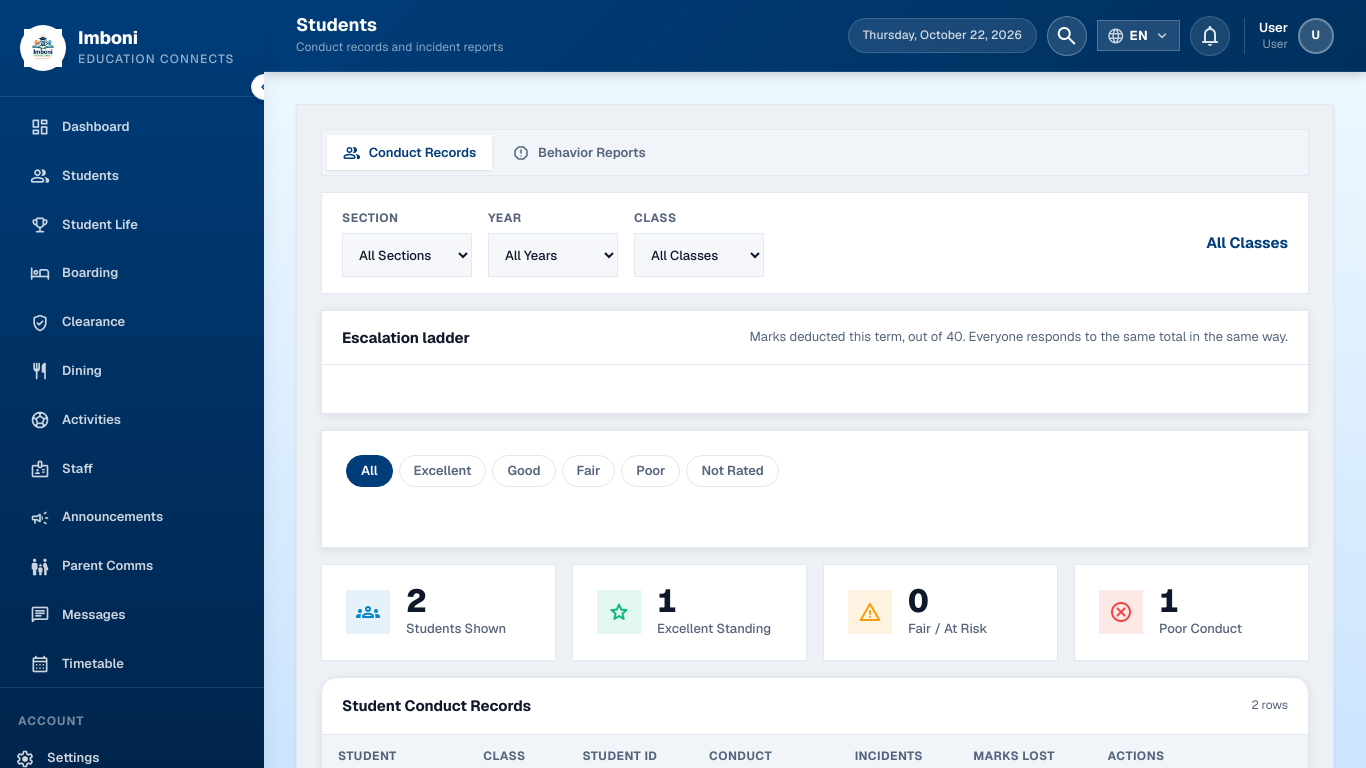
it: DisStudents › shows approved reports with the follow-up filter bar
Click the tab "Behavior Reports": point(579, 153) [496,135,662,170]
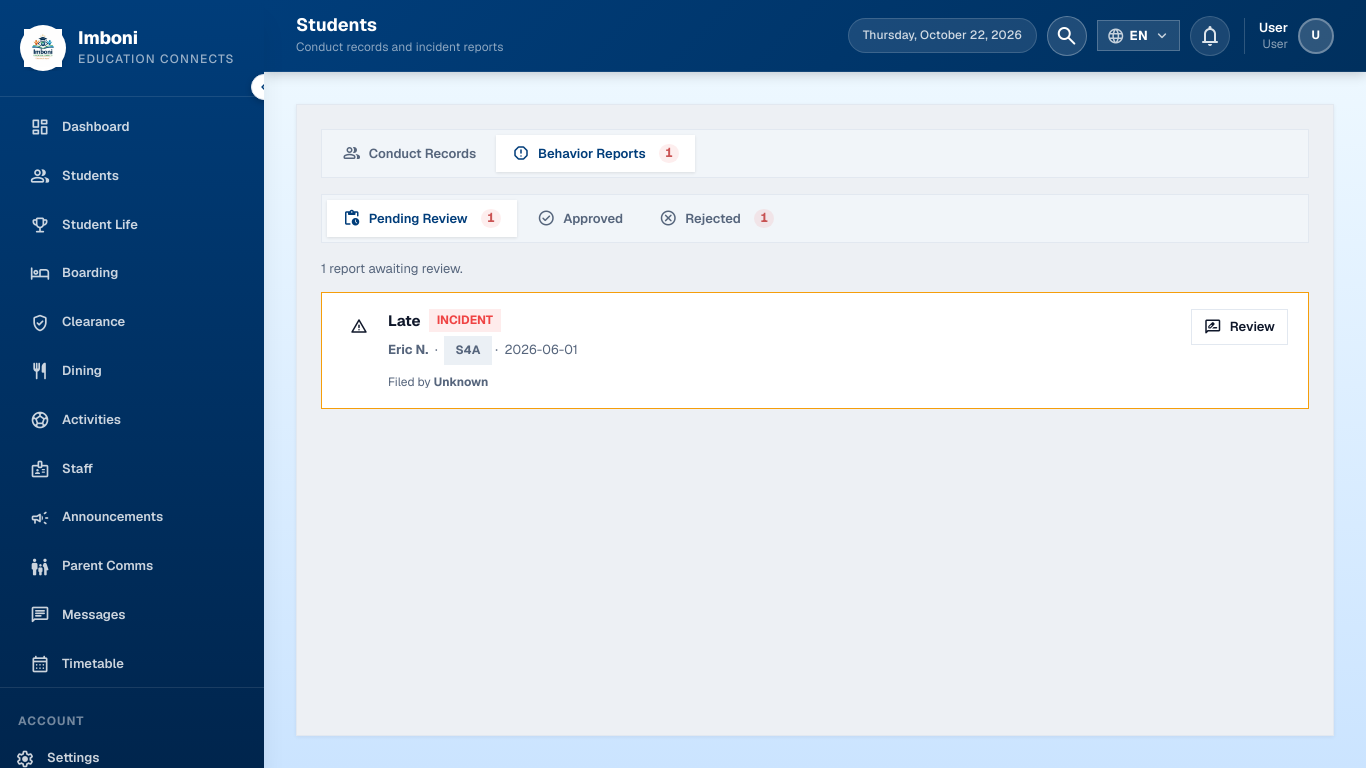
Now the text "Late" is shown, box [388,309,421,333]
Click the tab "Approved": point(580, 218) [521,200,639,237]
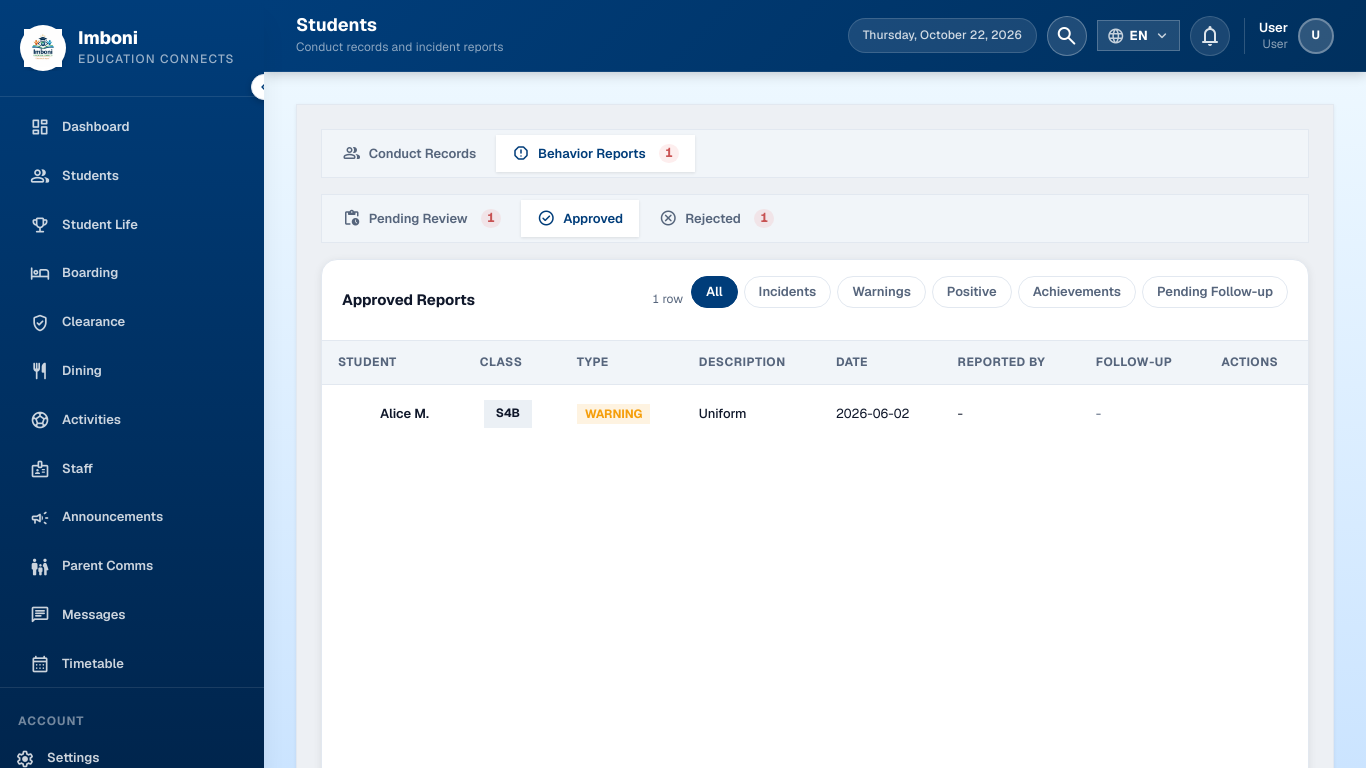
Now the text "Uniform" is shown, box [699,404,747,422]
